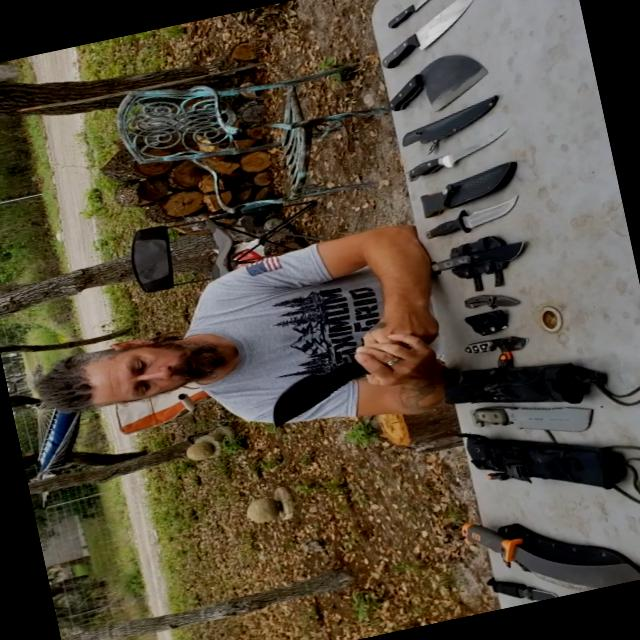knife: (436, 493, 634, 618), (446, 374, 614, 467), (242, 332, 368, 438), (360, 36, 504, 122), (382, 99, 513, 188), (356, 0, 493, 74), (406, 169, 524, 253), (442, 259, 530, 323), (443, 314, 541, 365), (480, 566, 550, 610), (363, 0, 451, 33)
